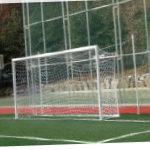goals: (10, 44, 124, 123)
